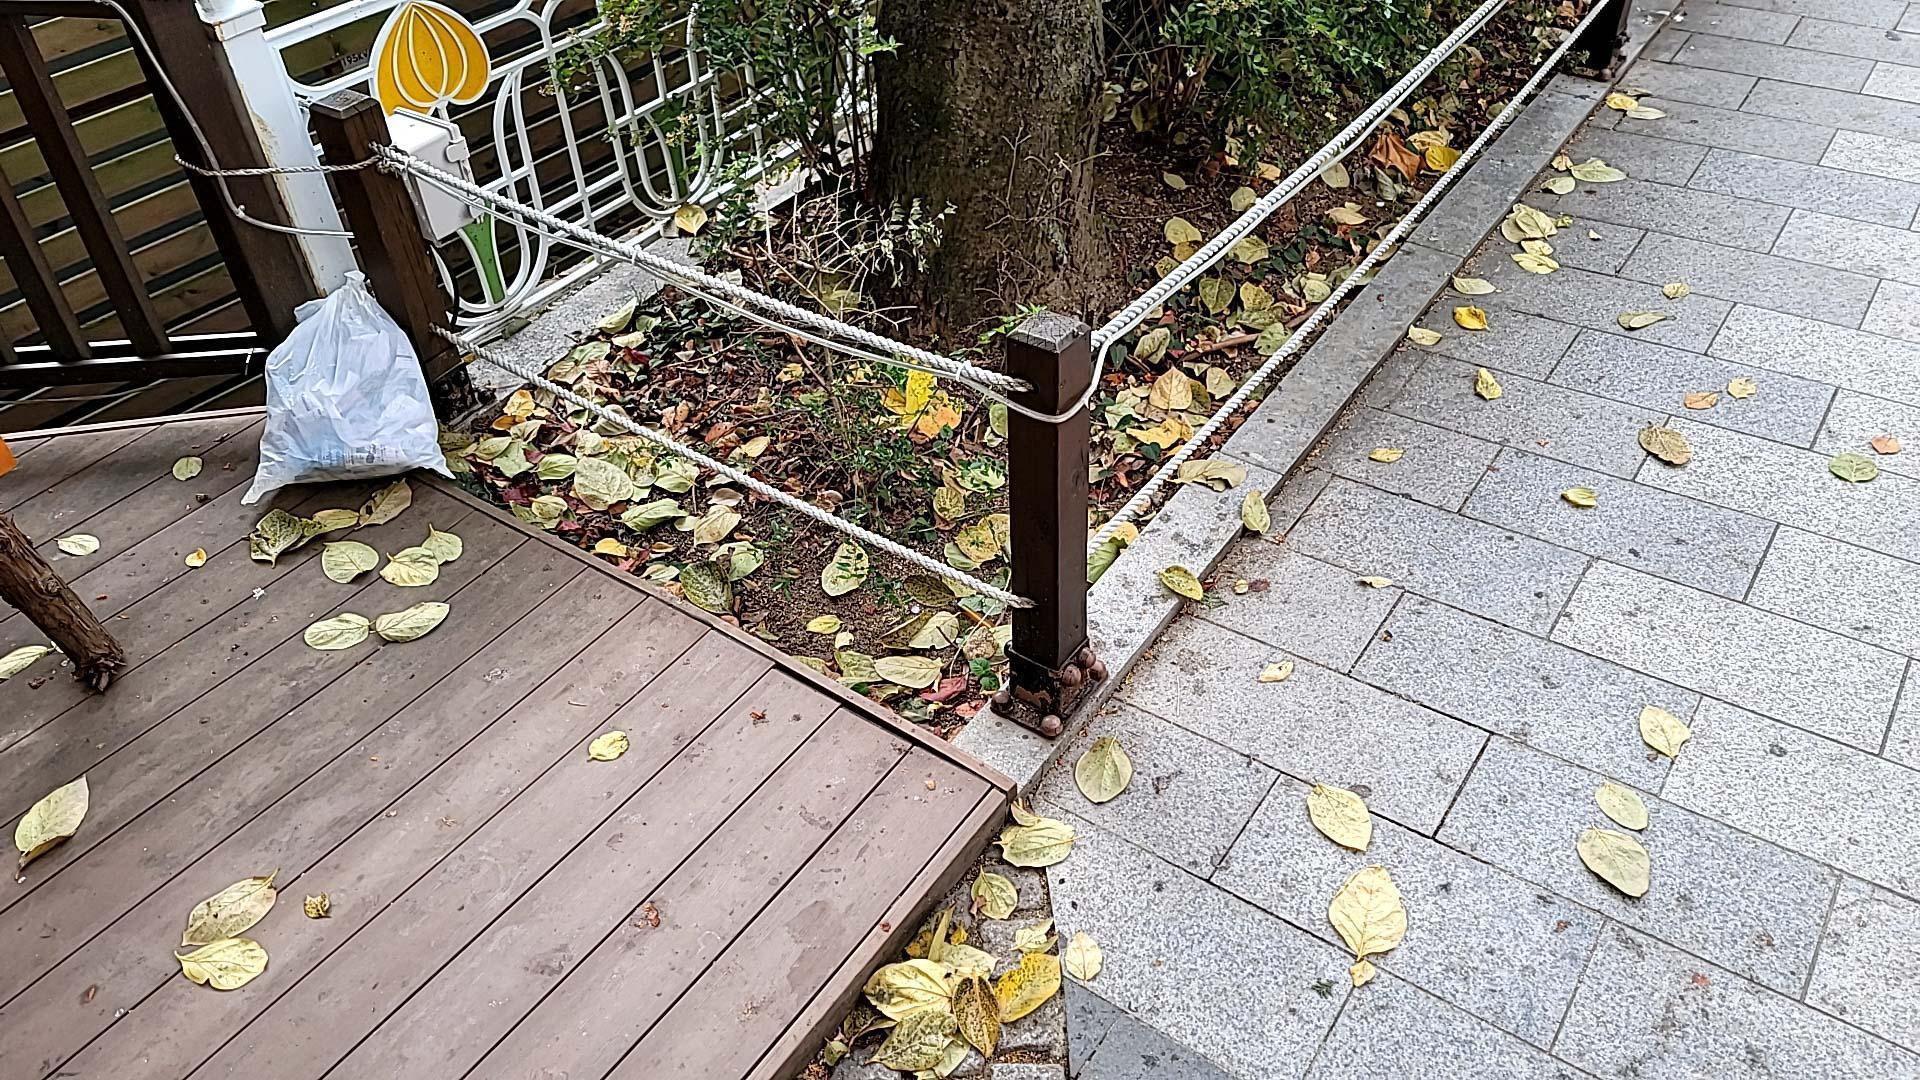white_bag: (228, 262, 469, 512)
